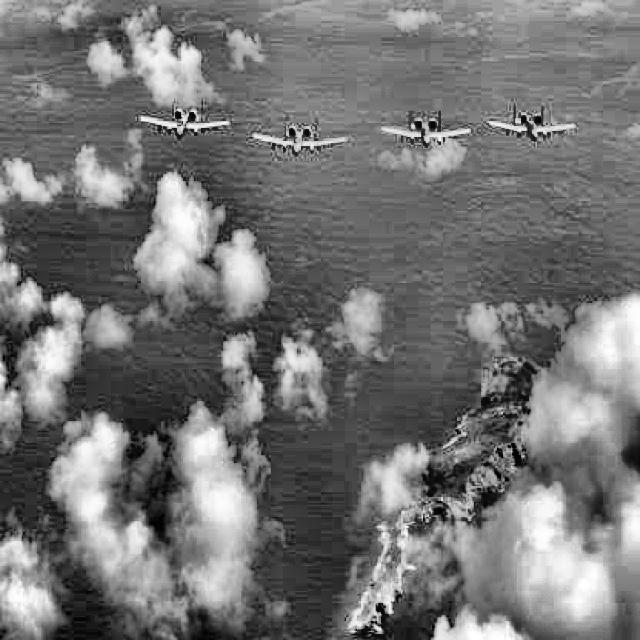A10: (252, 116, 346, 156), (140, 100, 229, 138), (380, 110, 471, 147), (487, 105, 575, 142)
